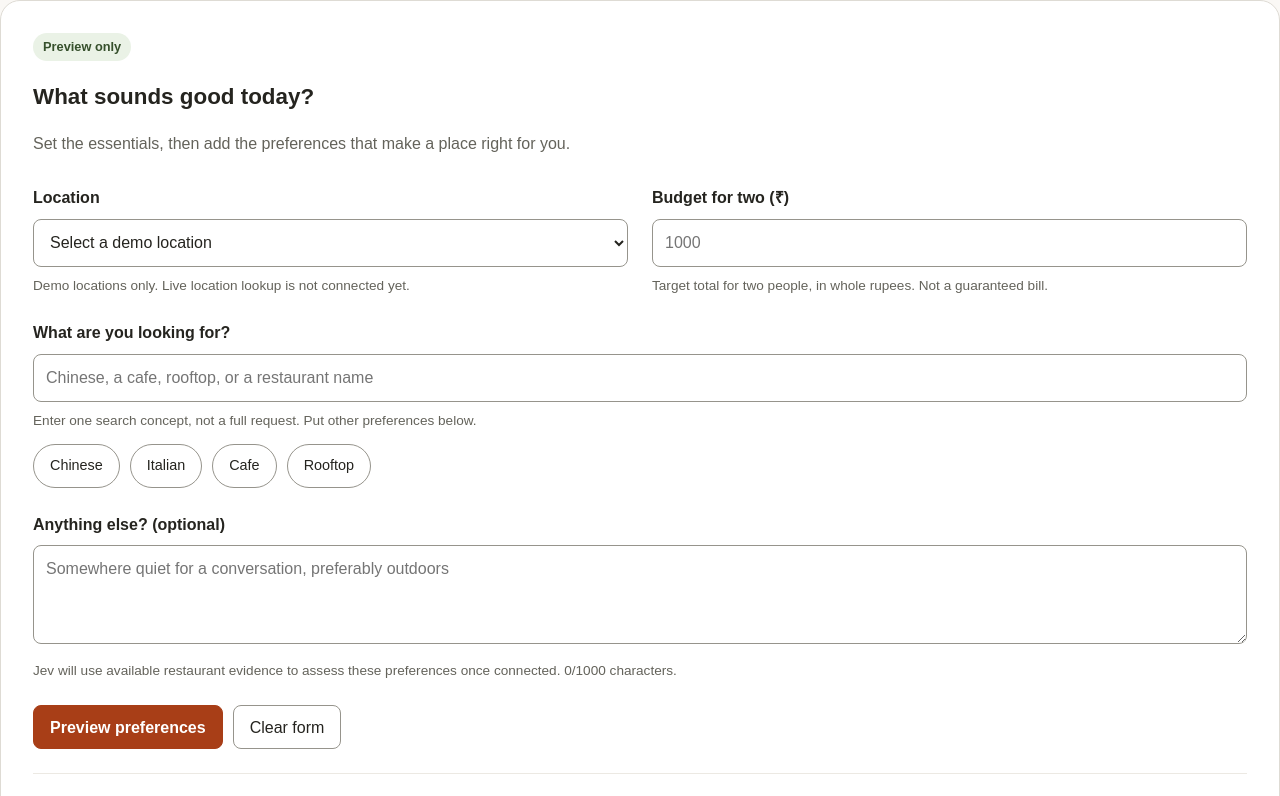
Test case: SearchForm › clears entered values and the preview on reset
Select "Koramangala, Bengaluru" in the dropdown labelled "Location" at (330, 242), box [33,218,628,266]
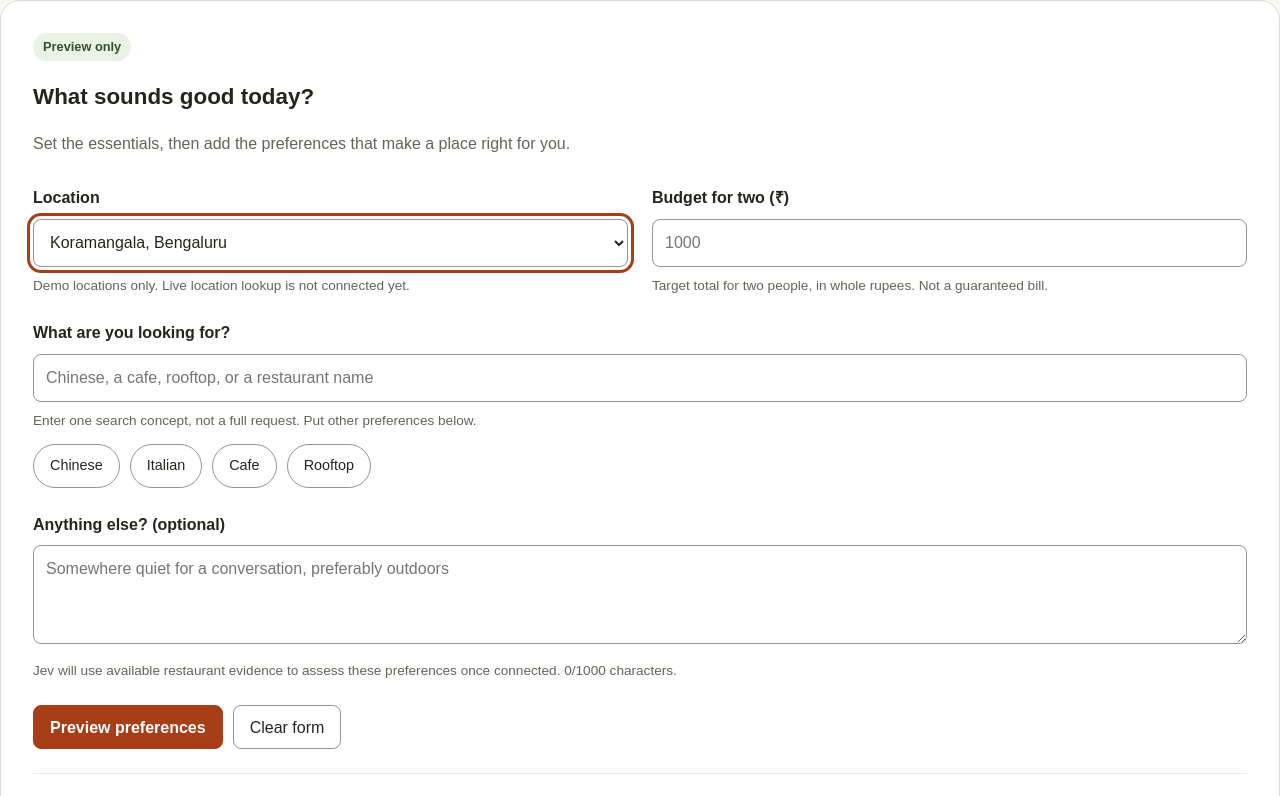
Type "1500" into the field labelled "Budget for two (₹)" at (950, 242), box [652,218,1247,266]
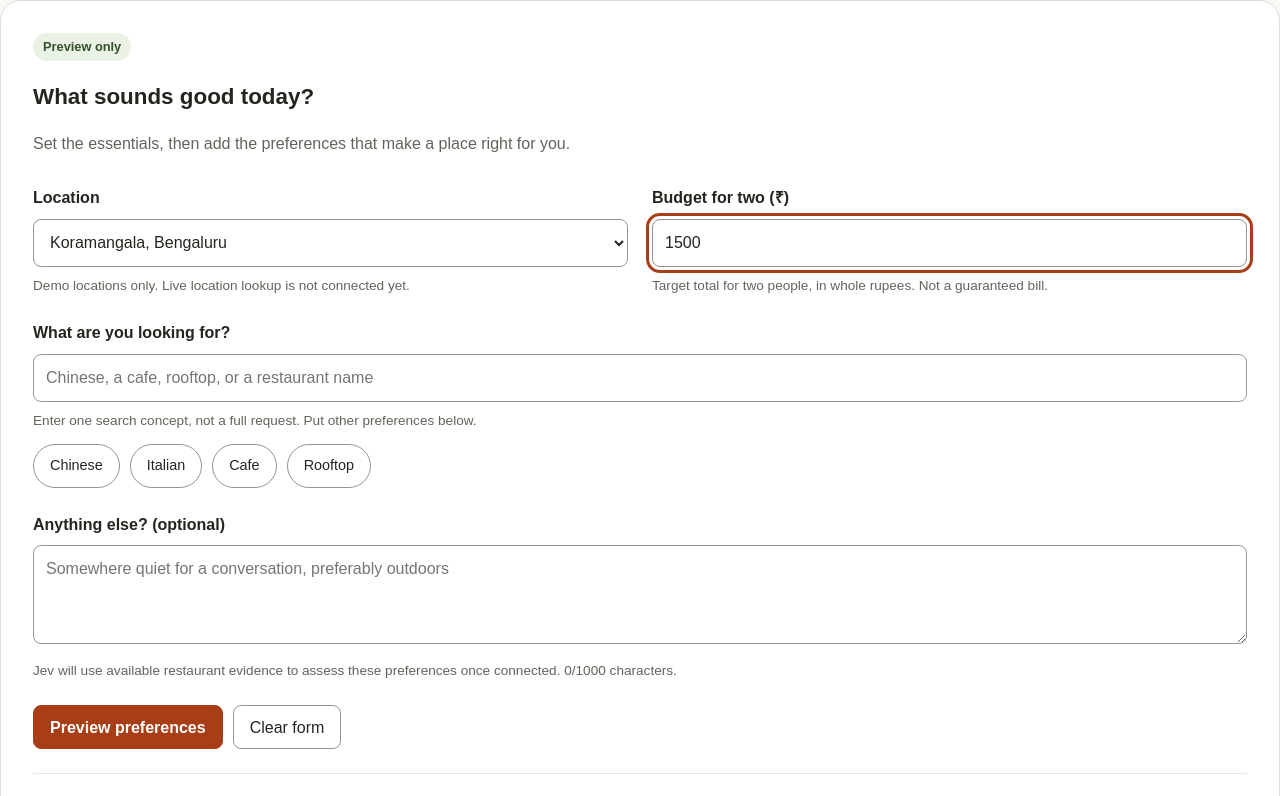
Click the button "Cafe" at (244, 466), box [212,444,277,488]
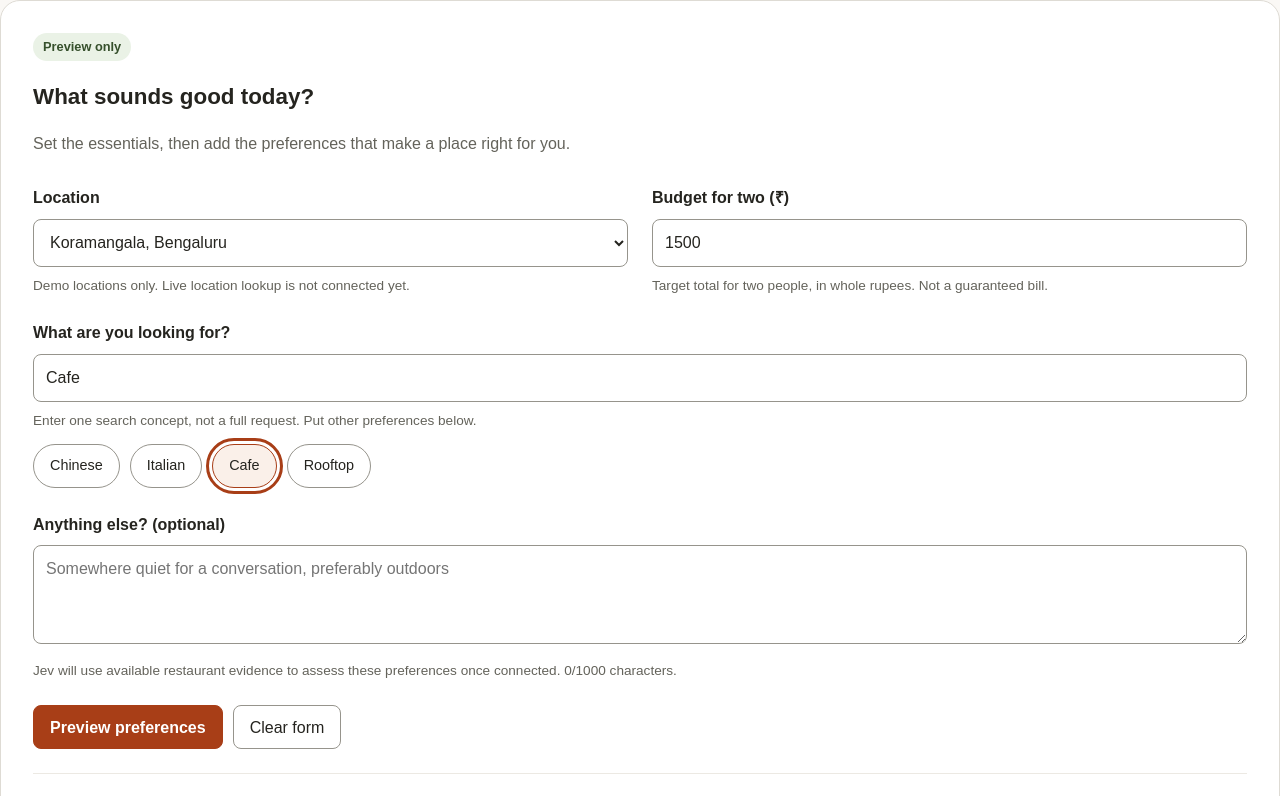
Click the button "Preview preferences" at (128, 727), box [33,705,223,749]
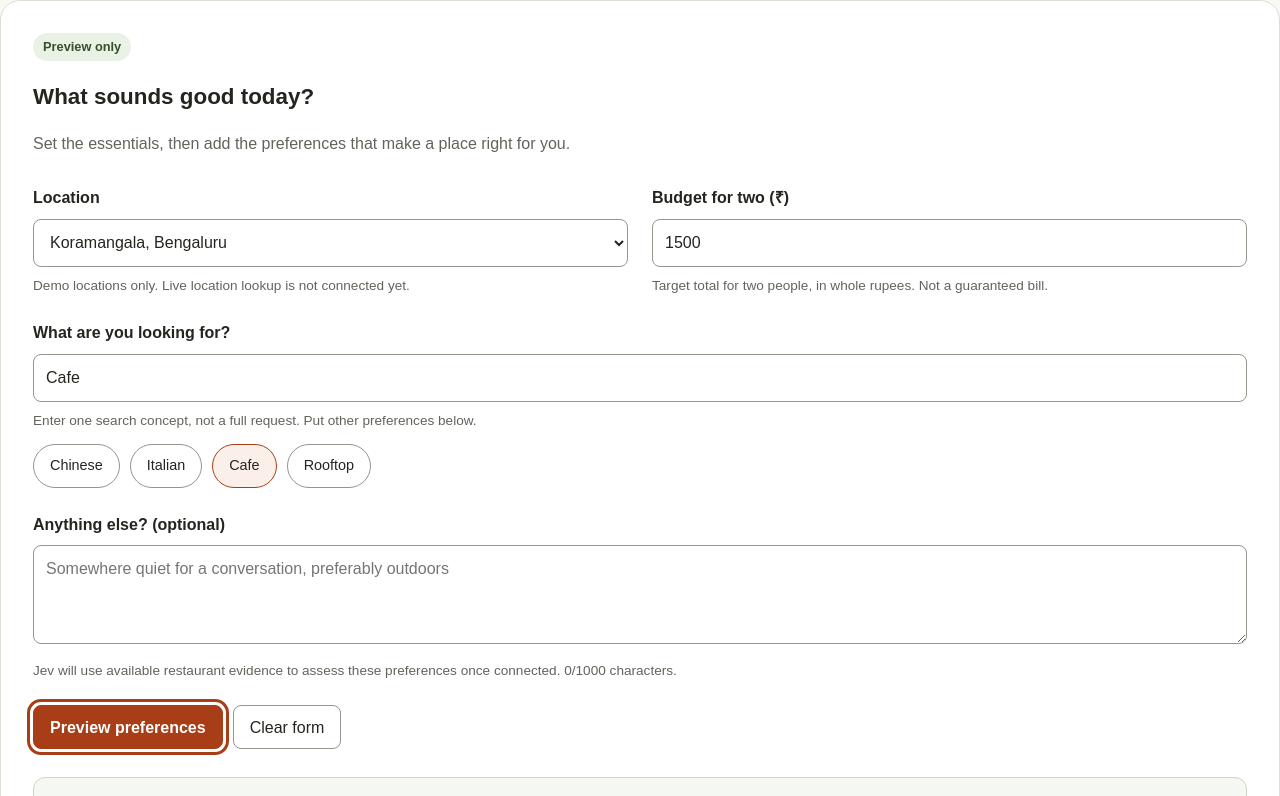
Click the button "Clear form" at (287, 727), box [233,705,341,749]
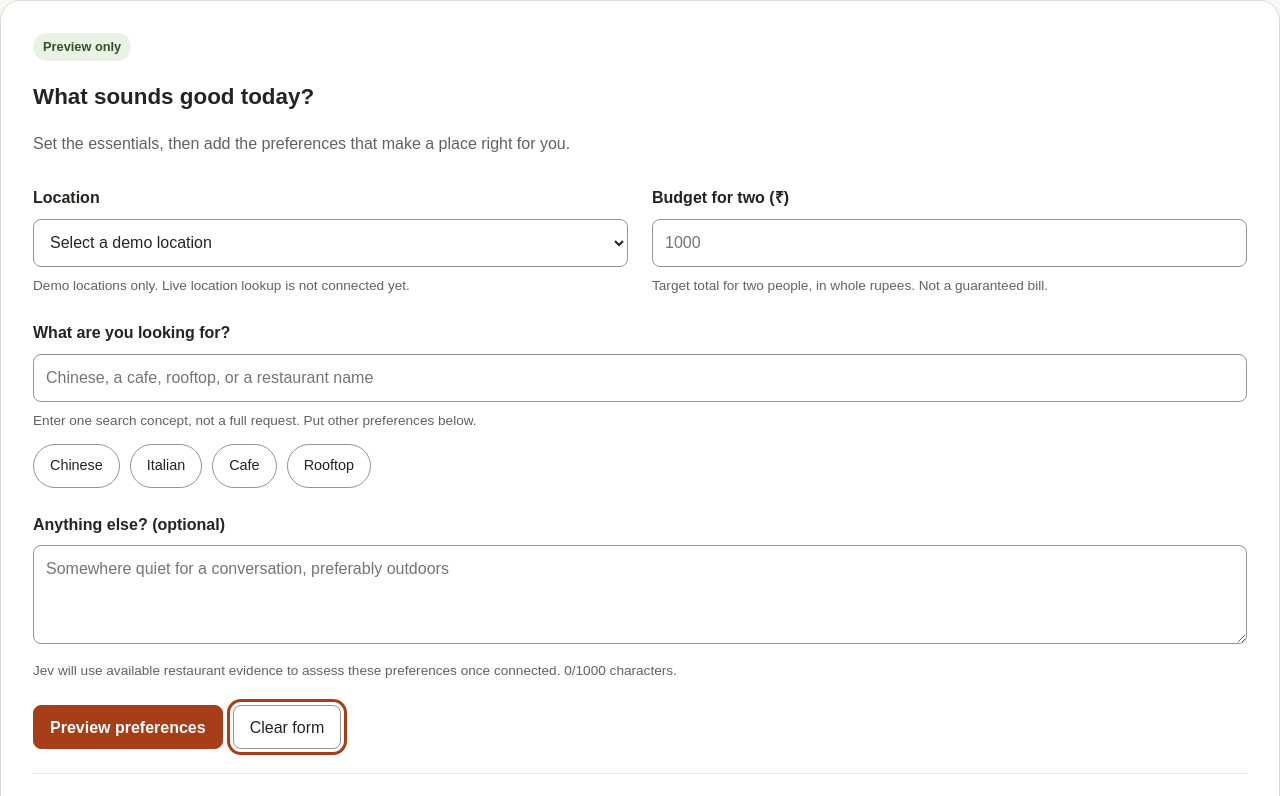
Expected: the field labelled "What are you looking for?" is empty, [33,354,1247,402]
